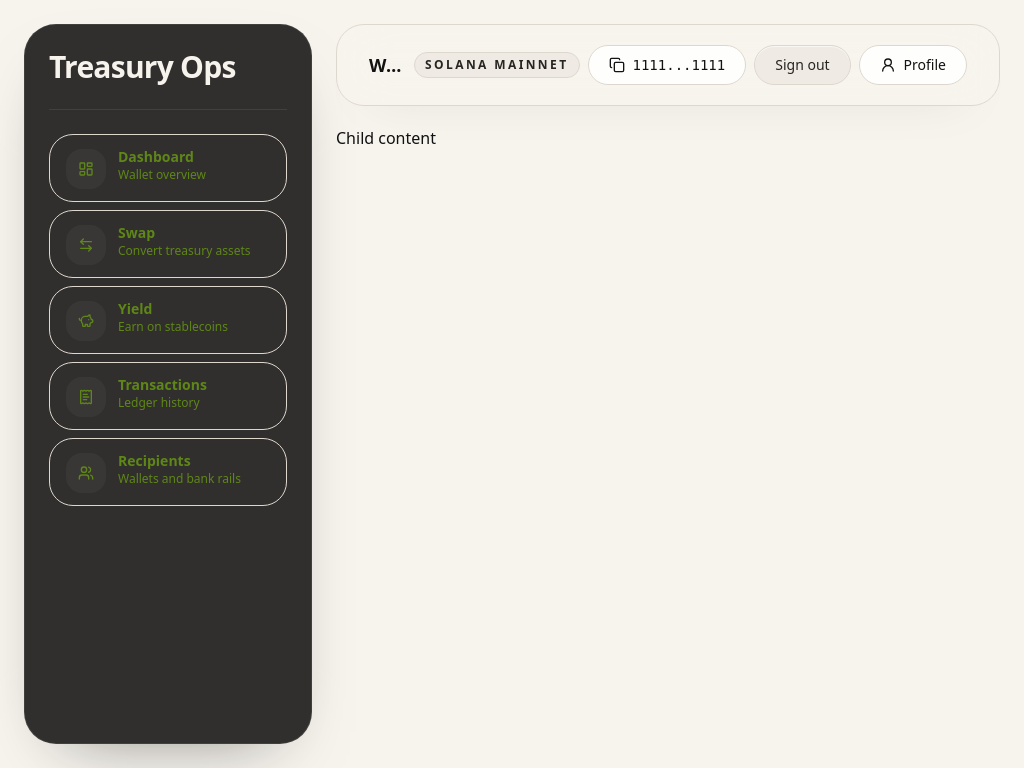
AppShell › shows a user-visible notice when copying the wallet address fails
The width and height of the screenshot is (1024, 768).
Click the button "1111...1111": point(667, 65) [588,45,746,85]
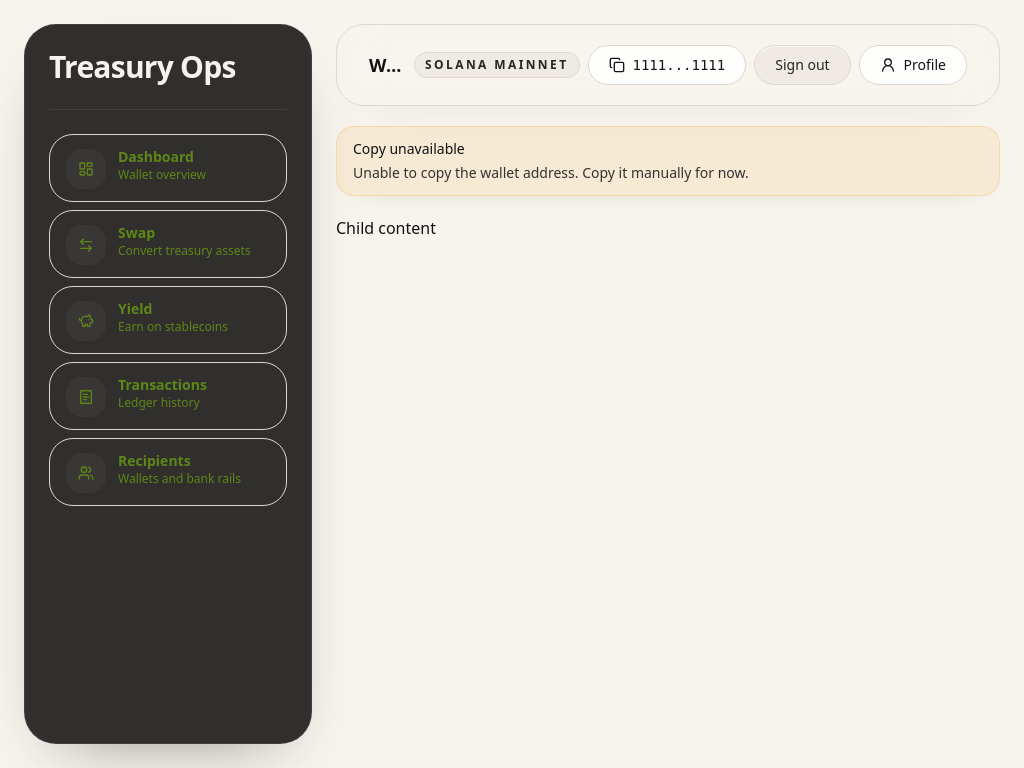
Now the text "Unable to copy the wallet address. Copy it manually for now." is shown, box [353,163,749,182]
